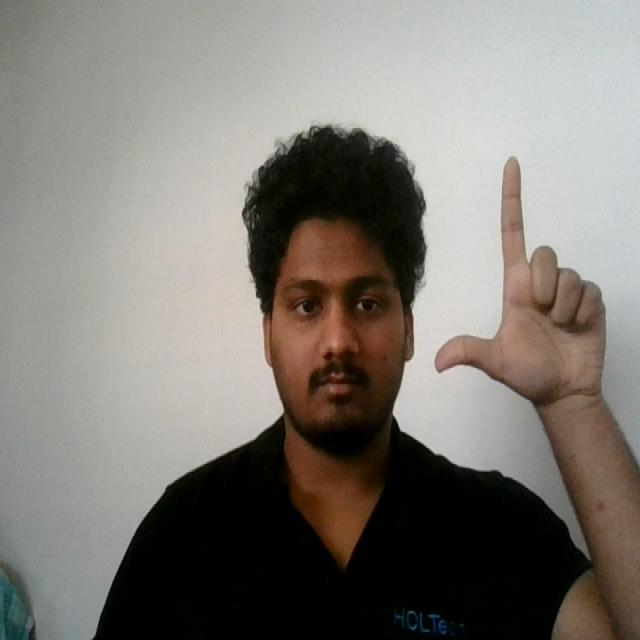IloveYou: (428, 147, 614, 414)
